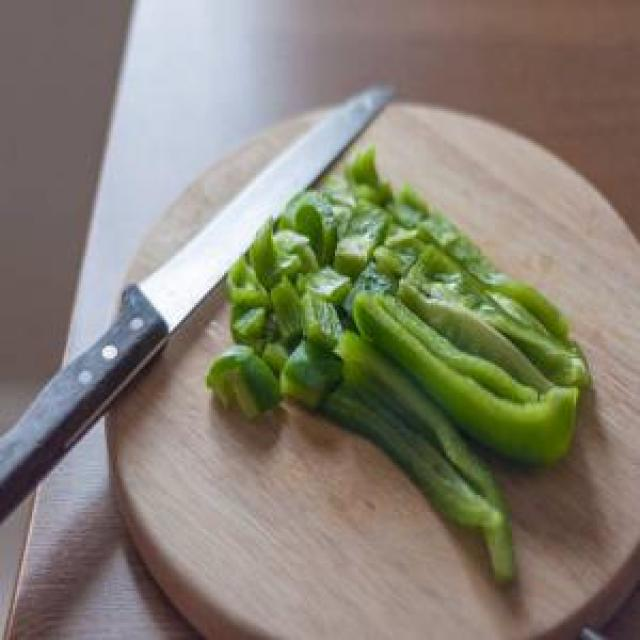knife: (0, 66, 402, 527)
